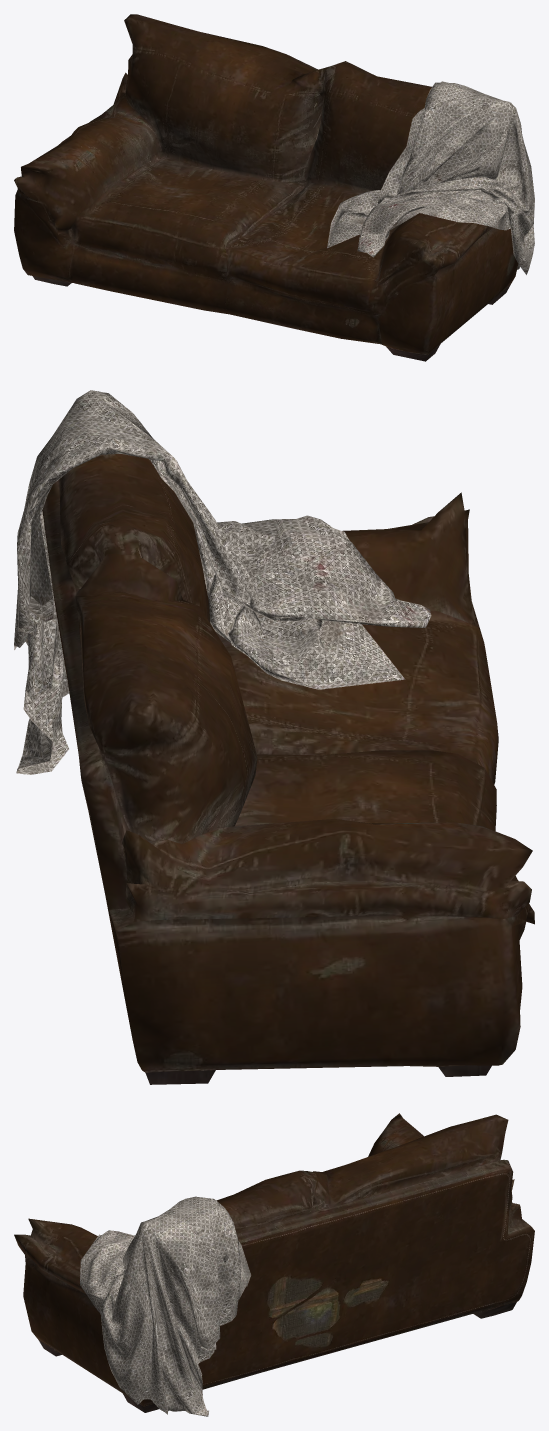
Rendered from couch.glb.
3 renders of one model, top to bottom at view 1: azimuth 30°, elevation 25°; view 2: azimuth 150°, elevation 25°; view 3: azimuth 270°, elevation 25°, orthographic. The views are drawn at different scales.
Visible parts, largest first — view 1: Couch_a:Mesh_0, Group58779_0; view 2: Couch_a:Mesh_0, Group58779_0; view 3: Couch_a:Mesh_0, Group58779_0.
Boxes of the visible parts, x1,y1,x2,y2 form: Couch_a:Mesh_0: [14, 14, 518, 361]; Group58779_0: [327, 81, 534, 274]; Couch_a:Mesh_0: [42, 454, 534, 1084]; Group58779_0: [14, 390, 431, 774]; Couch_a:Mesh_0: [14, 1113, 534, 1412]; Group58779_0: [80, 1196, 251, 1416].
Size of the model in its own units: 0.0547 by 0.0267 by 0.0631.
Materials: 2 (2 with a texture image).
